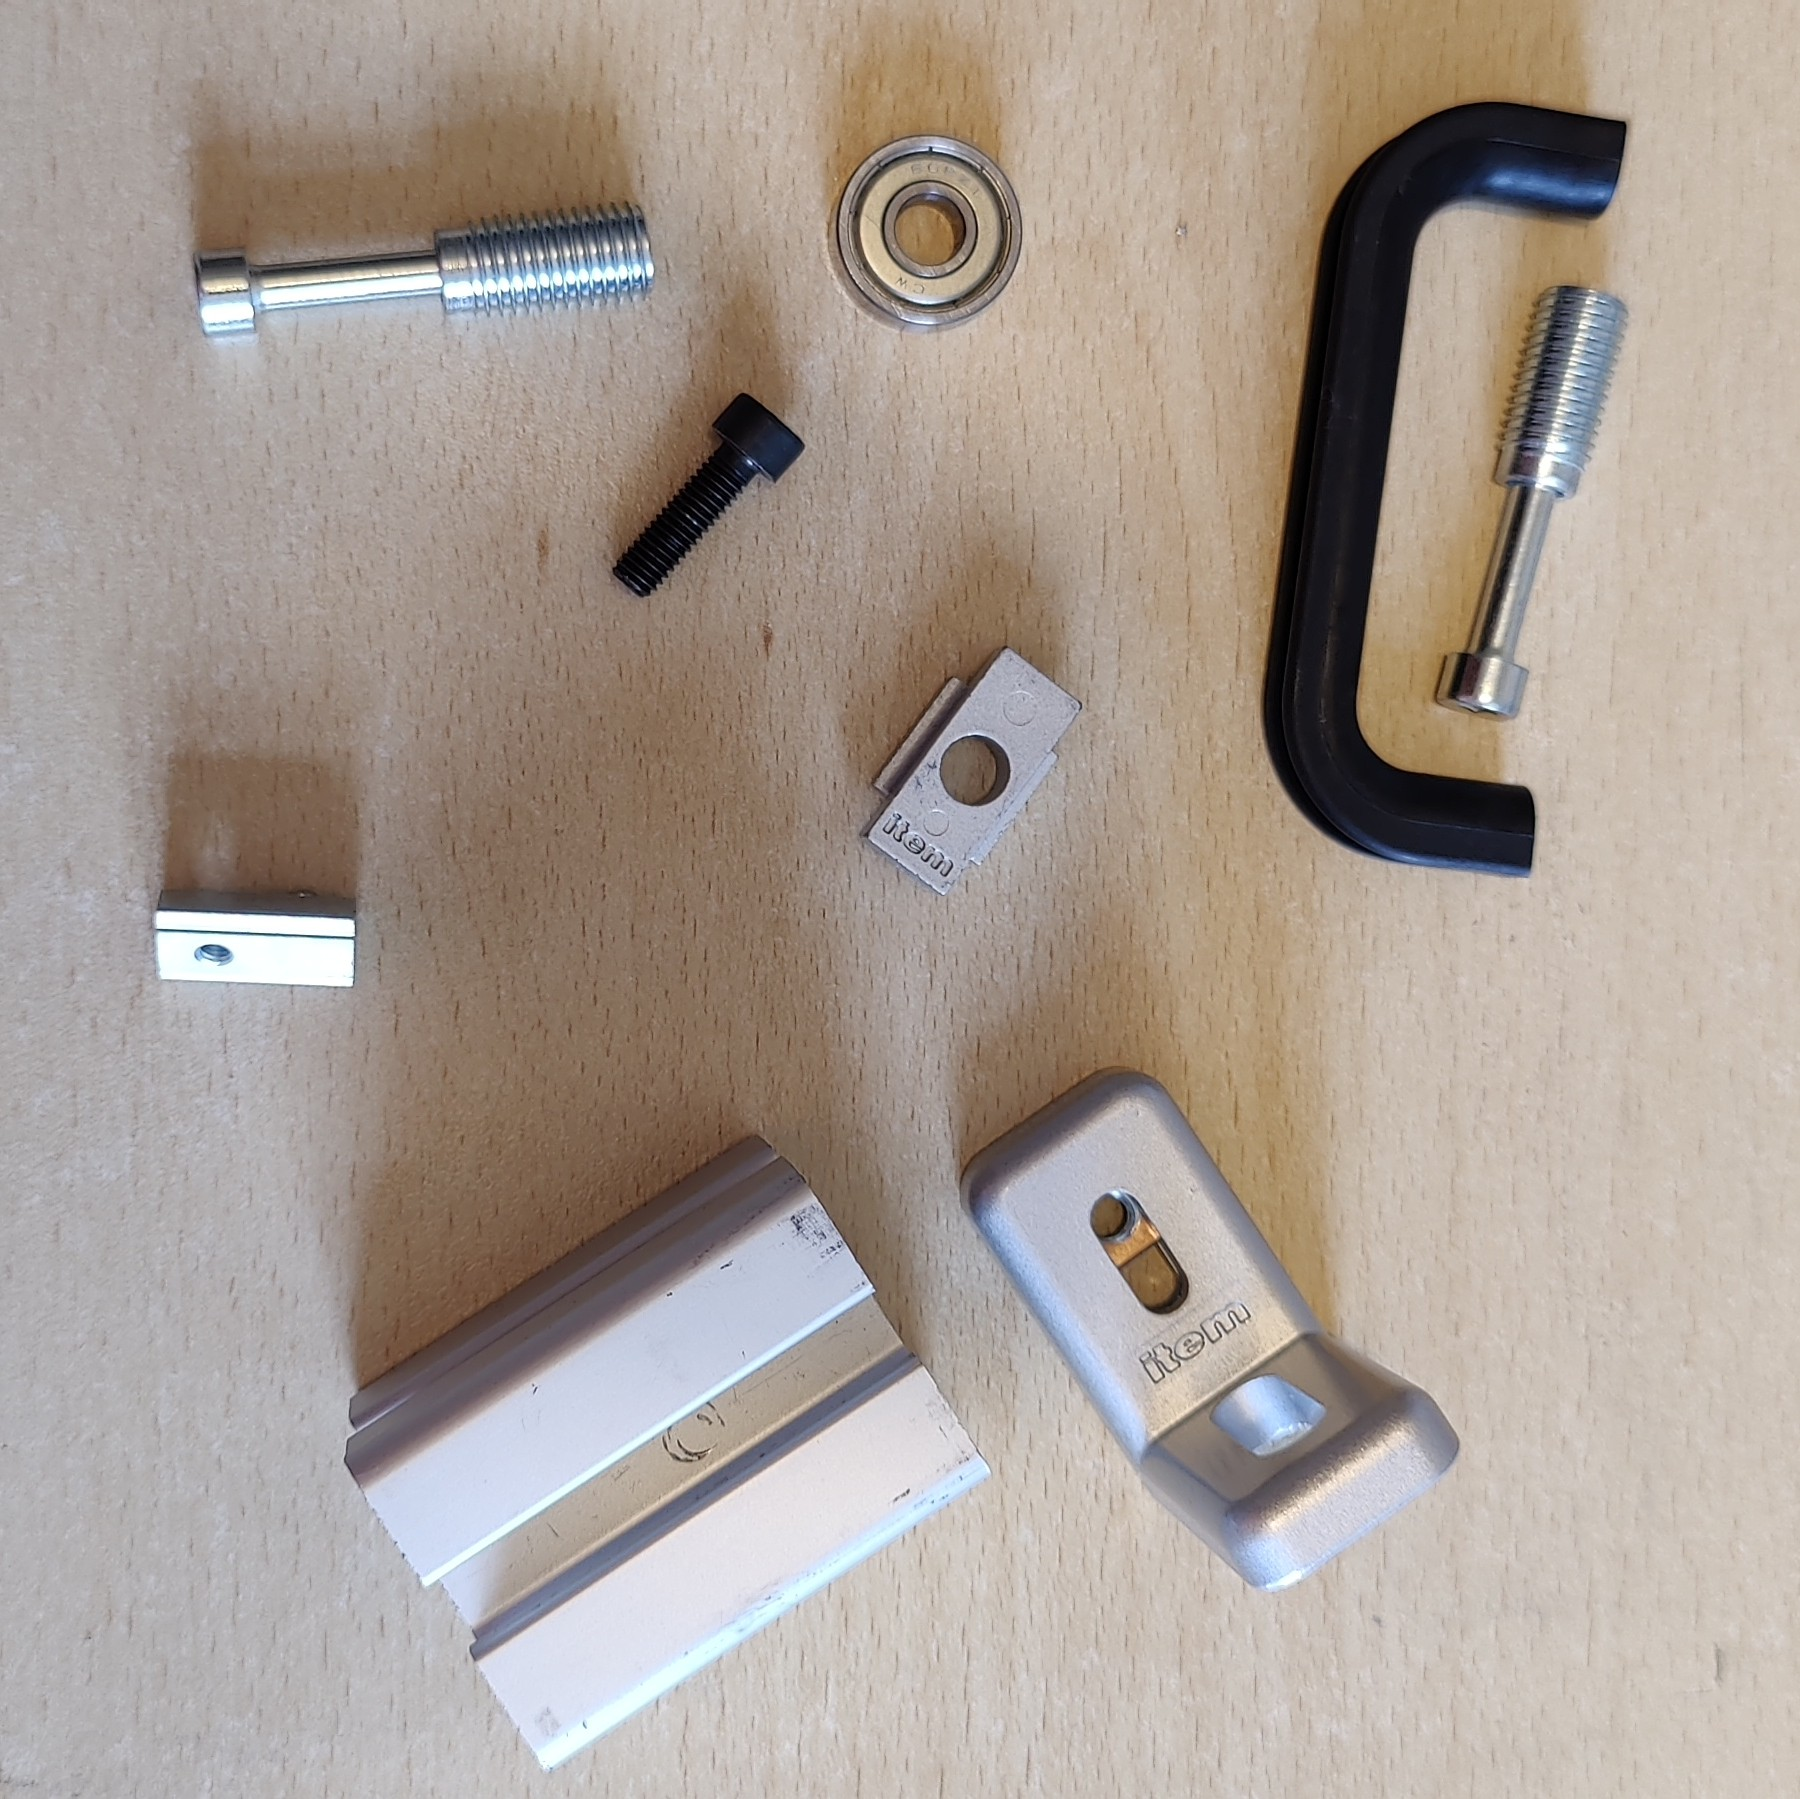Aluminium Extension: (343, 1125, 993, 1774)
Ball Bearing: (823, 133, 1024, 334)
Multiwinkel: (954, 1064, 1462, 1595)
Pull Handle: (1258, 96, 1629, 881)
Shoulder Socket Head Cap Screw: (1429, 278, 1632, 723), (189, 194, 659, 346)
Socket Head Cap Screw: (608, 387, 809, 600)
T Nut Square: (858, 638, 1085, 898)
T Spring Nut: (147, 880, 361, 993)
